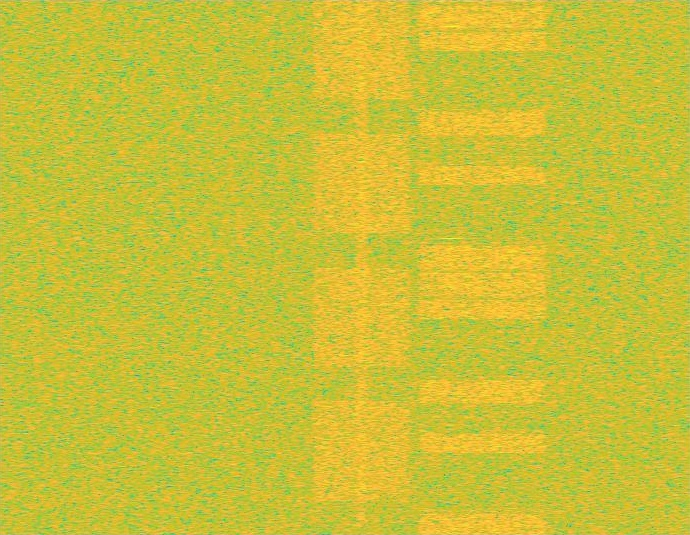5G: (310, 0, 414, 534)
DSSS: (355, 0, 369, 534)
LTE: (414, 0, 552, 534)
Radar: (444, 0, 458, 534)
